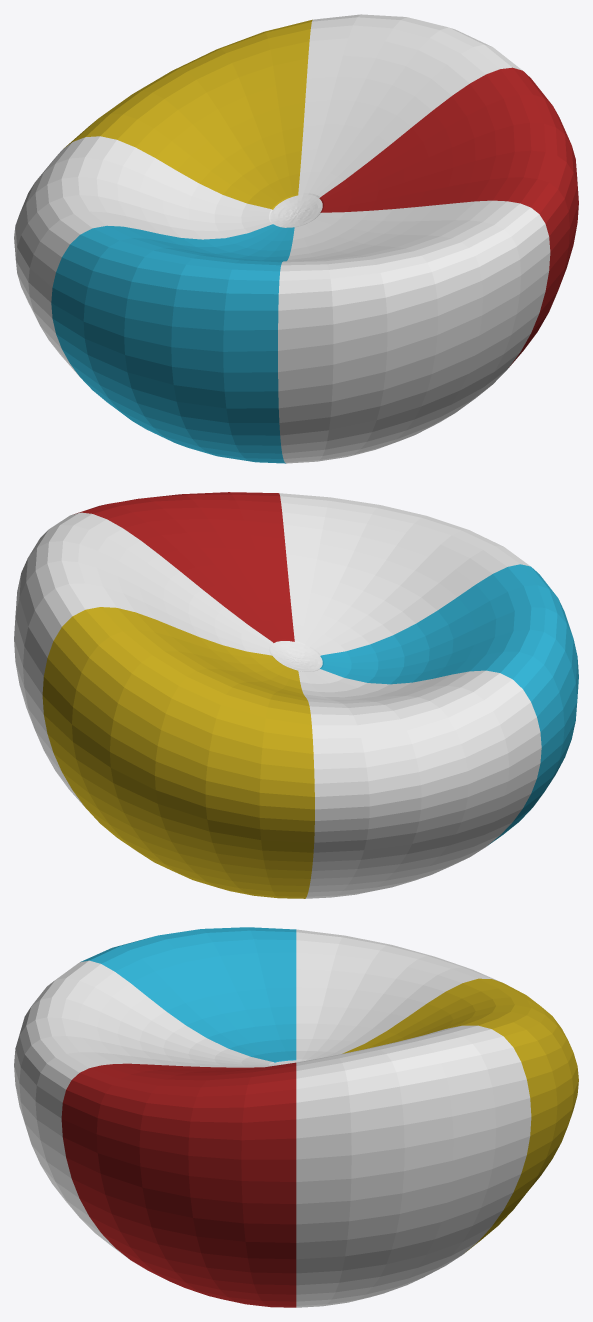
The picture shows the model from 3 angles, top to bottom: view 1: azimuth 30°, elevation 25°; view 2: azimuth 150°, elevation 25°; view 3: azimuth 270°, elevation 25°; orthographic projection.
Parts seen in each view (by area): view 1: Sphere; view 2: Sphere; view 3: Sphere.
Part boxes in pixels (bbox=[...]): Sphere: bbox=[14, 14, 578, 463]; Sphere: bbox=[14, 492, 578, 898]; Sphere: bbox=[14, 927, 578, 1307].
Bounding box in the file's own units: 200 × 123 × 200.
